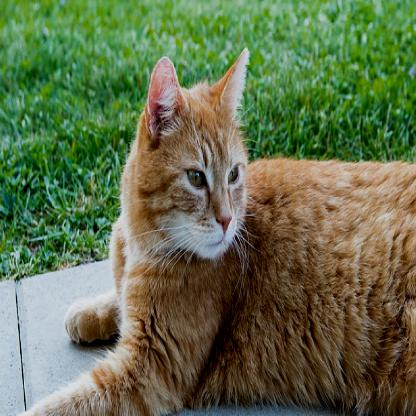cat: (61, 45, 416, 415)
